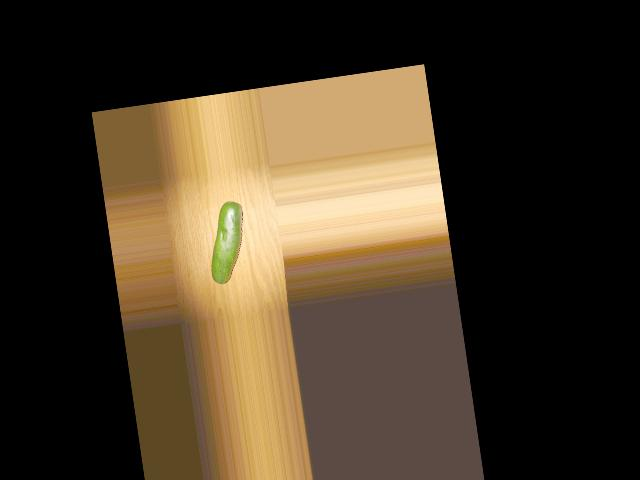cucumber: (202, 200, 252, 285)
